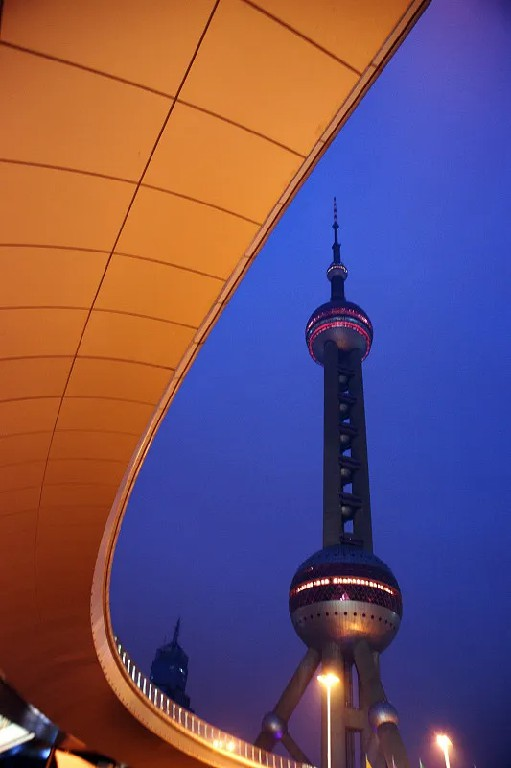Oriental: (256, 196, 404, 768)
